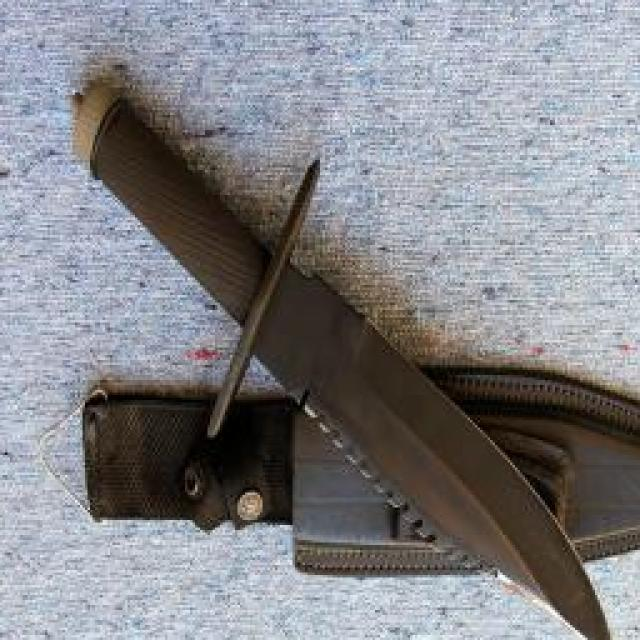knife: (258, 282, 628, 640)
